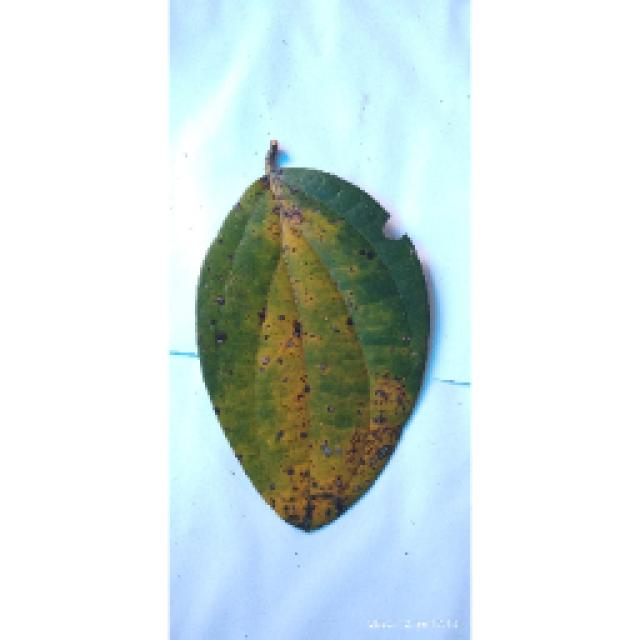slow-decline: (192, 145, 430, 530)
